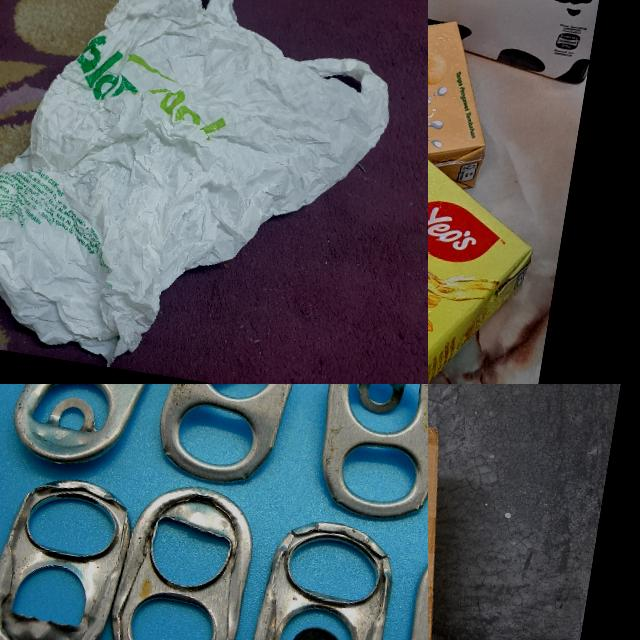aba de lata: (100, 475, 264, 640), (0, 467, 137, 640), (240, 513, 402, 640), (307, 384, 428, 528), (149, 384, 306, 493), (6, 384, 161, 479)
caixinha: (428, 119, 541, 384), (428, 0, 501, 286), (428, 0, 609, 87)
papelão: (428, 401, 480, 640)
sacola plástica: (0, 0, 414, 384)
